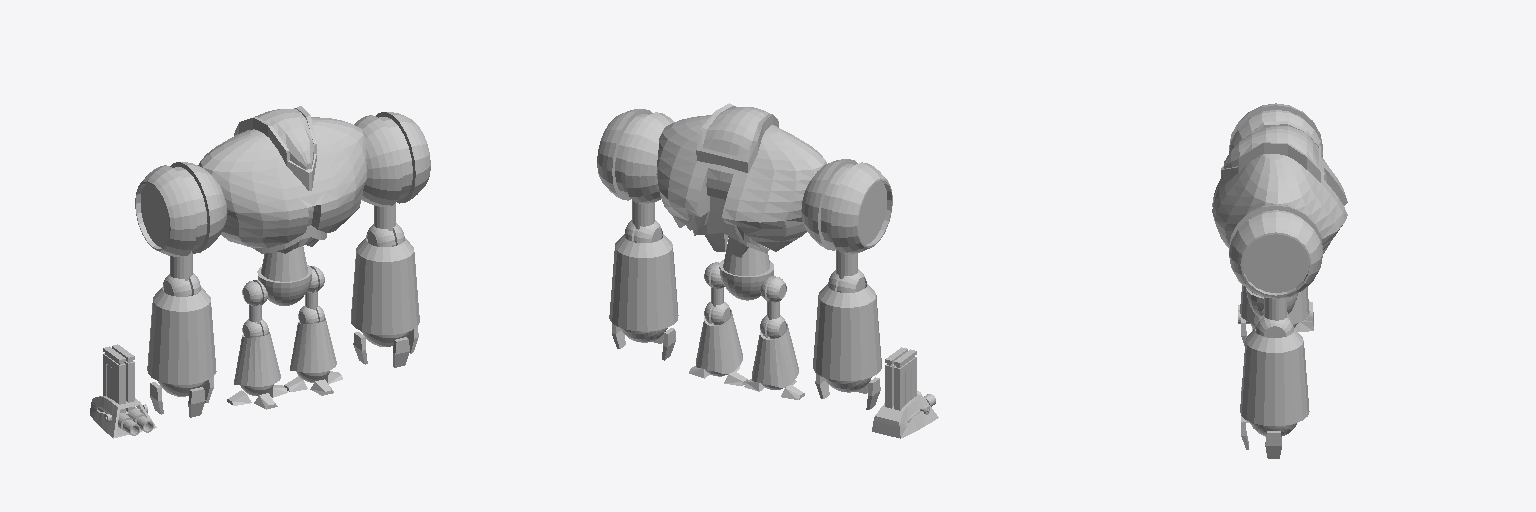
File: Robot.obj
The picture shows the model from 3 angles: view 1: azimuth 30°, elevation 25°; view 2: azimuth 150°, elevation 25°; view 3: azimuth 270°, elevation 25°; orthographic projection.
Visible parts, largest first — view 1: pSphere21 polySurface40, pSphere21 polySurface57, pSphere21 polySurface58, pSphere21 polySurface42, pSphere21 polySurface41, polySurface39, pSphere21 polySurface63, pSphere21 polySurface47, pCube24, pCube23, pCylinder15, pSphere9 (+2 smaller); view 2: pSphere21 polySurface40, pSphere21 polySurface57, pSphere21 polySurface42, pSphere21 polySurface58, pSphere21 polySurface41, polySurface39, pCube24, pSphere21 polySurface47, pSphere21 polySurface63, pCube23, pSphere9, pCylinder15 (+5 smaller); view 3: pSphere21 polySurface41, pSphere21 polySurface40, pSphere21 polySurface42, pCube24, pSphere21 polySurface57, pCube23, pSphere21 polySurface58, pSphere21 polySurface44.
Boxes of the visible parts, box(x1,y1,x2,y2) form: pSphere21 polySurface40: box(198, 117, 367, 253); pSphere21 polySurface57: box(135, 162, 227, 256); pSphere21 polySurface58: box(147, 287, 216, 384); pSphere21 polySurface42: box(351, 238, 419, 334); pSphere21 polySurface41: box(354, 112, 430, 206); polySurface39: box(90, 344, 156, 438); pSphere21 polySurface63: box(234, 332, 280, 386); pSphere21 polySurface47: box(290, 318, 336, 372); pCube24: box(255, 109, 313, 169); pCube23: box(234, 106, 316, 190); pCylinder15: box(261, 246, 307, 281); pSphere9: box(257, 265, 311, 305); pSphere21 polySurface40: box(656, 115, 826, 252); pSphere21 polySurface57: box(801, 159, 892, 253); pSphere21 polySurface42: box(609, 234, 678, 331); pSphere21 polySurface58: box(813, 284, 881, 380); pSphere21 polySurface41: box(597, 109, 673, 203); polySurface39: box(872, 347, 938, 438); pCube24: box(703, 107, 769, 157); pSphere21 polySurface47: box(696, 309, 742, 373); pSphere21 polySurface63: box(752, 323, 798, 387); pCube23: box(696, 103, 778, 172); pSphere9: box(719, 260, 773, 300); pCylinder15: box(723, 239, 769, 275); pSphere21 polySurface41: box(1229, 204, 1322, 298); pSphere21 polySurface40: box(1212, 154, 1347, 253); pSphere21 polySurface42: box(1240, 328, 1309, 425); pCube24: box(1224, 125, 1318, 168); pSphere21 polySurface57: box(1229, 103, 1322, 156); pCube23: box(1221, 121, 1320, 187); pSphere21 polySurface58: box(1240, 285, 1309, 324); pSphere21 polySurface44: box(1256, 314, 1293, 337).
Size of the model in its own units: 4.79 by 4 by 1.79.